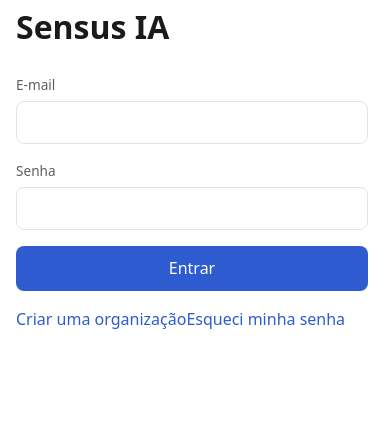
App › credencial errada mostra o erro sem dizer se o e-mail existe
Type "ana@acme.com" into the field labelled "E-mail". click: coordinates (192, 122)
box: left=16, top=101, right=368, bottom=144
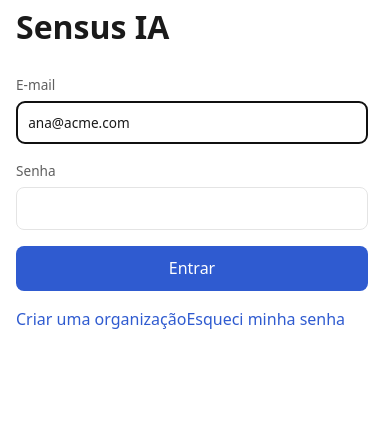
Type "senha-errada-longa" into the password field labelled "Senha". click: coordinates (192, 209)
box: left=16, top=187, right=368, bottom=230
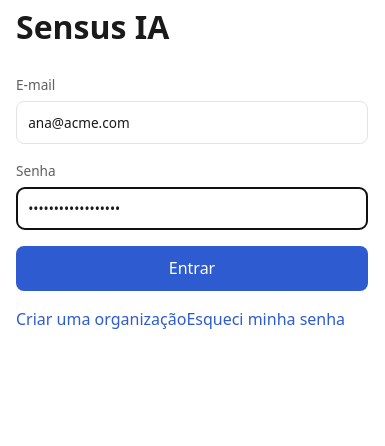
Click the button "Entrar". click: coordinates (192, 269)
box: left=16, top=246, right=368, bottom=291
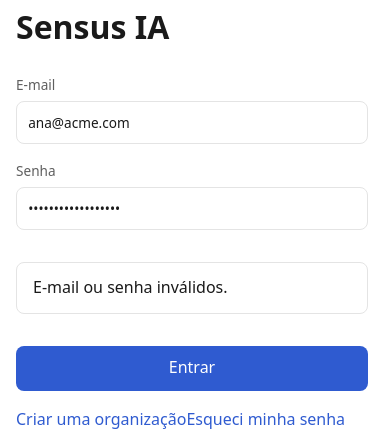
Expected: the text "E-mail ou senha inválidos." is shown, left=16, top=262, right=368, bottom=314
